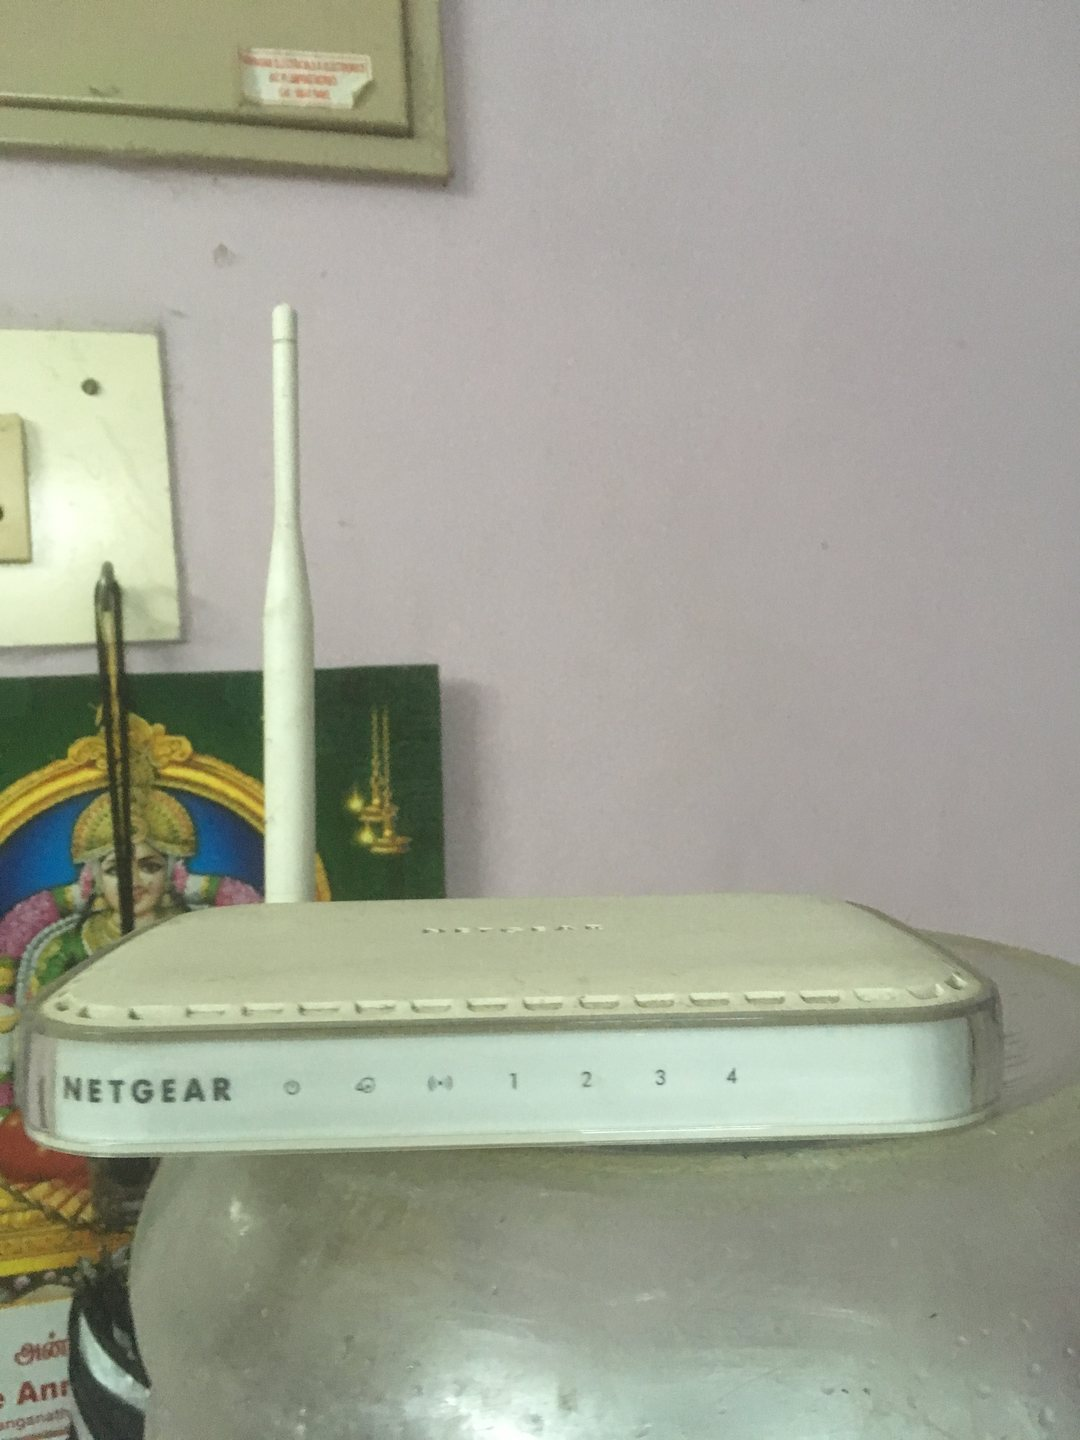NETGEAR: (54, 1067, 242, 1115)
modem: (7, 999, 1026, 1157)
